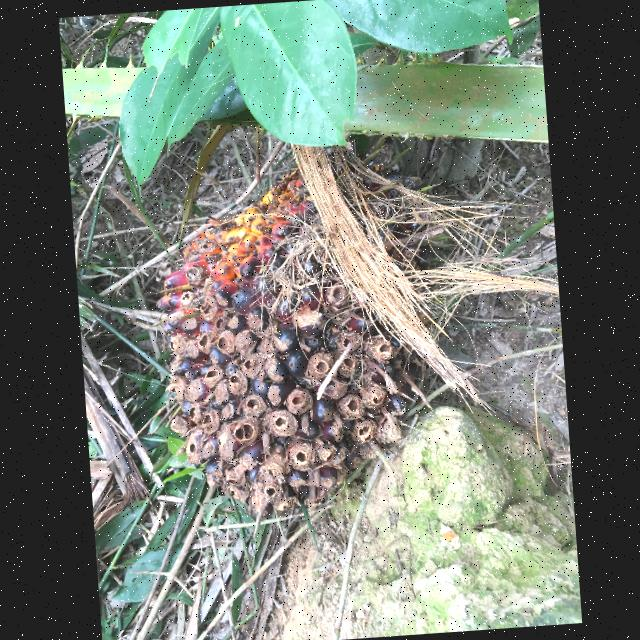Damaged: (157, 163, 410, 511)
